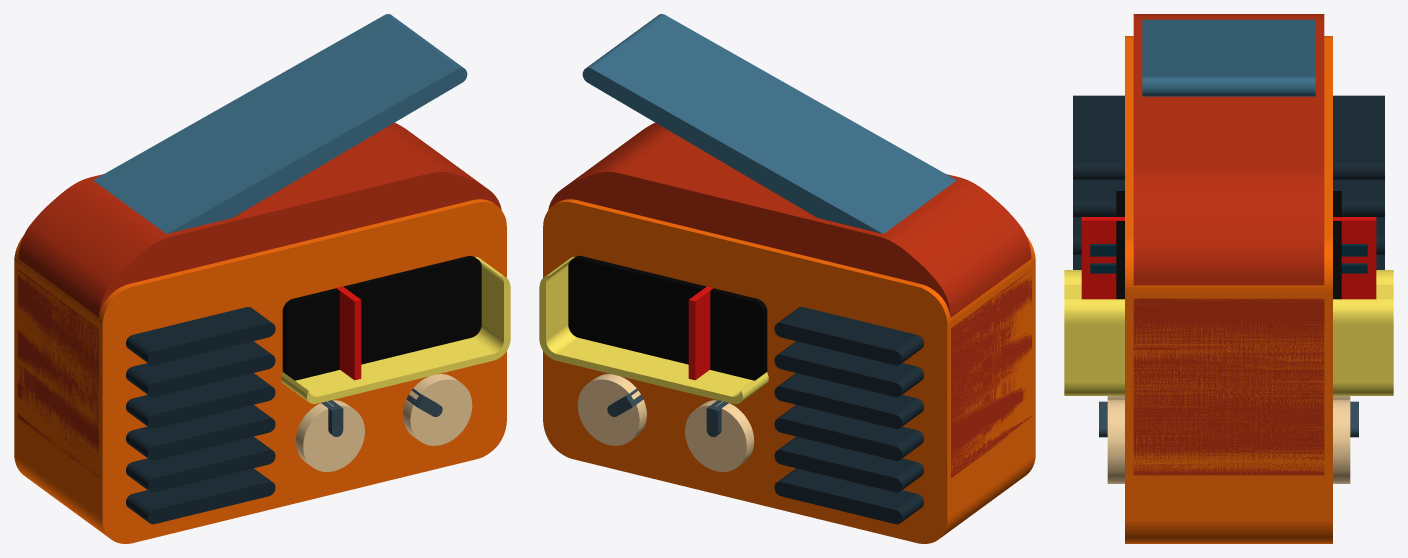
3 renders of one model, left to right at view 1: azimuth 30°, elevation 25°; view 2: azimuth 150°, elevation 25°; view 3: azimuth 270°, elevation 25°, orthographic. The views are drawn at different scales.
Visible parts, largest first — view 1: U+1F4FB_layer02_obj00, U+1F4FB_layer01_obj00, U+1F4FB_layer00_obj05, U+1F4FB_layer03_obj00, U+1F4FB_layer09_obj00, U+1F4FB_layer08_obj05, U+1F4FB_layer08_obj00, U+1F4FB_layer08_obj02, U+1F4FB_layer08_obj01, U+1F4FB_layer08_obj03, U+1F4FB_layer08_obj04, U+1F4FB_layer04_obj01 (+2 smaller); view 2: U+1F4FB_layer02_obj00, U+1F4FB_layer01_obj00, U+1F4FB_layer00_obj05, U+1F4FB_layer03_obj00, U+1F4FB_layer09_obj00, U+1F4FB_layer08_obj05, U+1F4FB_layer08_obj00, U+1F4FB_layer08_obj02, U+1F4FB_layer08_obj01, U+1F4FB_layer08_obj03, U+1F4FB_layer08_obj04, U+1F4FB_layer04_obj01 (+2 smaller); view 3: U+1F4FB_layer01_obj00, U+1F4FB_layer02_obj00, U+1F4FB_layer00_obj05, U+1F4FB_layer09_obj00, U+1F4FB_layer08_obj05, U+1F4FB_layer07_obj00, U+1F4FB_layer08_obj01, U+1F4FB_layer04_obj01, U+1F4FB_layer03_obj00, U+1F4FB_layer06_obj01, U+1F4FB_layer08_obj02, U+1F4FB_layer05_obj00 (+1 smaller).
Part boxes in pixels (x1,y1,x2,y2): U+1F4FB_layer02_obj00: (14, 199, 506, 543); U+1F4FB_layer01_obj00: (18, 122, 501, 477); U+1F4FB_layer00_obj05: (93, 14, 467, 233); U+1F4FB_layer03_obj00: (282, 256, 481, 380); U+1F4FB_layer09_obj00: (281, 257, 510, 403); U+1F4FB_layer08_obj05: (126, 307, 275, 365); U+1F4FB_layer08_obj00: (126, 468, 275, 524); U+1F4FB_layer08_obj02: (126, 373, 275, 428); U+1F4FB_layer08_obj01: (126, 341, 275, 397); U+1F4FB_layer08_obj03: (126, 436, 275, 492); U+1F4FB_layer08_obj04: (126, 404, 275, 460); U+1F4FB_layer04_obj01: (403, 374, 472, 445); U+1F4FB_layer02_obj00: (543, 199, 1035, 543); U+1F4FB_layer01_obj00: (548, 122, 1031, 477); U+1F4FB_layer00_obj05: (582, 14, 956, 233); U+1F4FB_layer03_obj00: (568, 256, 767, 380); U+1F4FB_layer09_obj00: (539, 257, 768, 403); U+1F4FB_layer08_obj05: (774, 307, 923, 365); U+1F4FB_layer08_obj00: (774, 468, 923, 524); U+1F4FB_layer08_obj02: (774, 373, 923, 428); U+1F4FB_layer08_obj01: (774, 341, 923, 397); U+1F4FB_layer08_obj03: (774, 436, 923, 492); U+1F4FB_layer08_obj04: (774, 404, 923, 460); U+1F4FB_layer04_obj01: (577, 374, 646, 445); U+1F4FB_layer01_obj00: (1133, 14, 1324, 475); U+1F4FB_layer02_obj00: (1125, 36, 1332, 543); U+1F4FB_layer00_obj05: (1142, 19, 1315, 96); U+1F4FB_layer09_obj00: (1064, 270, 1393, 395); U+1F4FB_layer08_obj05: (1073, 95, 1384, 179); U+1F4FB_layer07_obj00: (1081, 217, 1376, 299); U+1F4FB_layer08_obj01: (1073, 180, 1384, 217); U+1F4FB_layer04_obj01: (1107, 400, 1350, 483); U+1F4FB_layer03_obj00: (1116, 191, 1341, 299); U+1F4FB_layer06_obj01: (1090, 244, 1367, 256); U+1F4FB_layer08_obj02: (1073, 217, 1384, 254); U+1F4FB_layer05_obj00: (1099, 401, 1358, 437).
Bounding box in the file's own units: 0.3175 × 0.2912 × 0.19.
